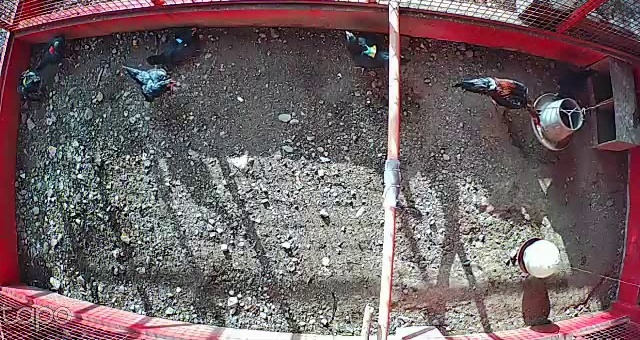Chicken: (341, 27, 413, 75), (142, 22, 209, 72), (115, 61, 185, 102), (547, 61, 603, 98), (38, 32, 81, 71), (16, 68, 53, 103)
Rooster: (448, 71, 543, 128)
Saddle_Color_Blue: (174, 37, 187, 47)
Saddle_Color_Red: (49, 45, 57, 56)
Saddle_Color_Yellow: (22, 77, 28, 88)
Saddle_Color_YellowGreen: (363, 41, 376, 58)
